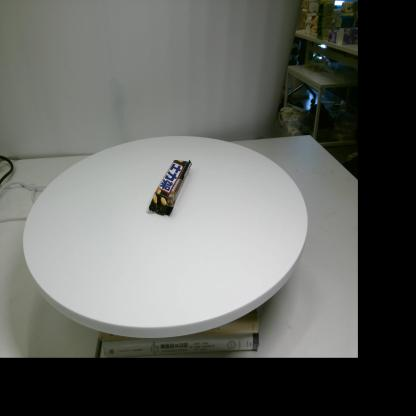Chocolate: (149, 160, 192, 216)
